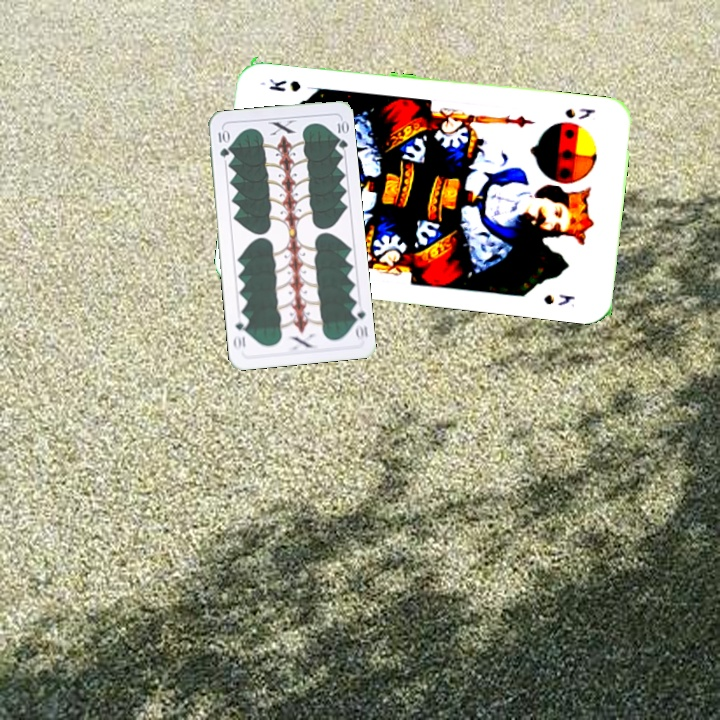G10: (348, 301, 370, 342), (214, 126, 231, 160)
SK: (561, 104, 598, 122)
